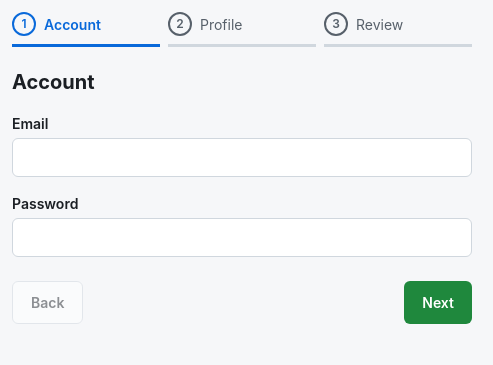
advances to Profile when Account is valid and moves the indicator
In the field labelled "Email": (242, 158) [12,138,472,177], type "ada@example.com"
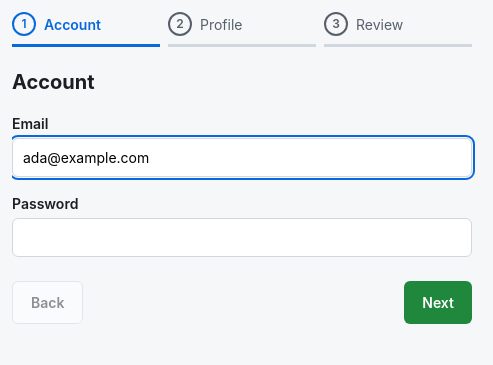
In the password field labelled "Password": (242, 238) [12,218,472,257], type "supersecret"
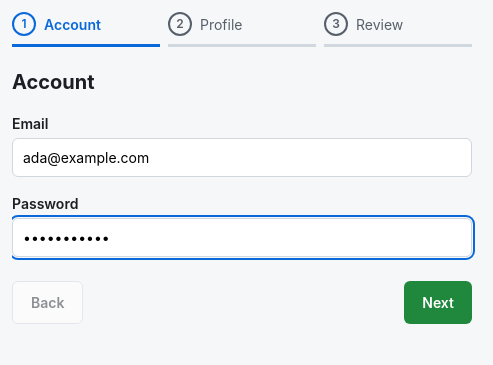
Click the button "Next": (438, 302) [404,281,472,324]
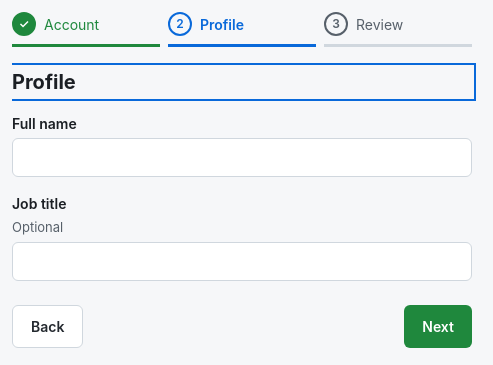
Expected: the list item "2 Profile" is shown, [168,12,316,47]
Now the heading "Profile" is shown, box [12,70,76,94]
